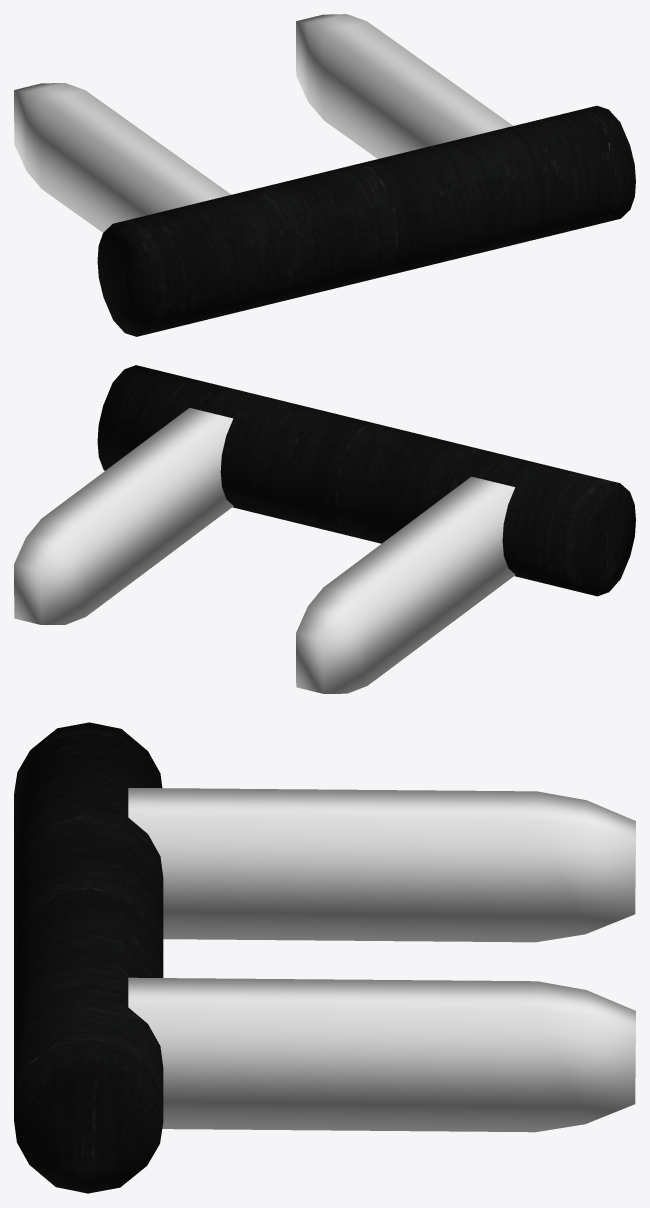
Rendered from Electric_Lever (1).fbx.
The picture shows the model from 3 angles, top to bottom: view 1: azimuth 30°, elevation 25°; view 2: azimuth 150°, elevation 25°; view 3: azimuth 270°, elevation 25°; orthographic projection. The views are drawn at different scales.
Parts seen in each view (by area): view 1: module.006; view 2: module.006; view 3: module.006.
Boxes of the visible parts, x1,y1,x2,y2 form: module.006: [14, 14, 635, 336]; module.006: [14, 365, 635, 693]; module.006: [14, 722, 635, 1193].
Bounding box in the file's own units: 15.12 × 3.14 × 12.19.
